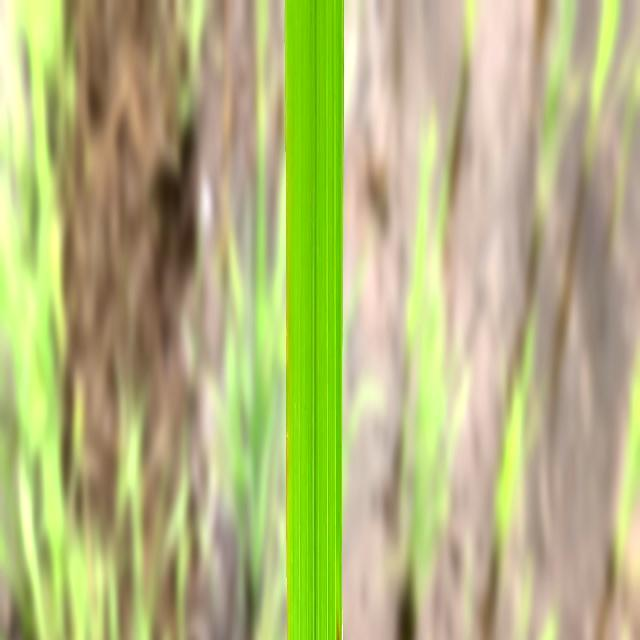NBS: (336, 618, 340, 640)
